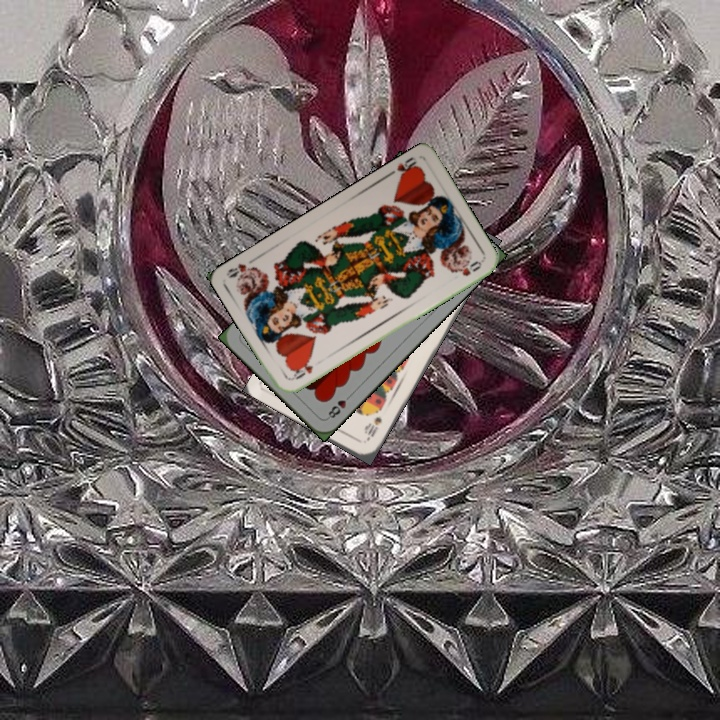H8: (323, 389, 355, 422)
HO: (383, 153, 423, 182), (287, 357, 316, 383)
S10: (362, 412, 385, 443)
